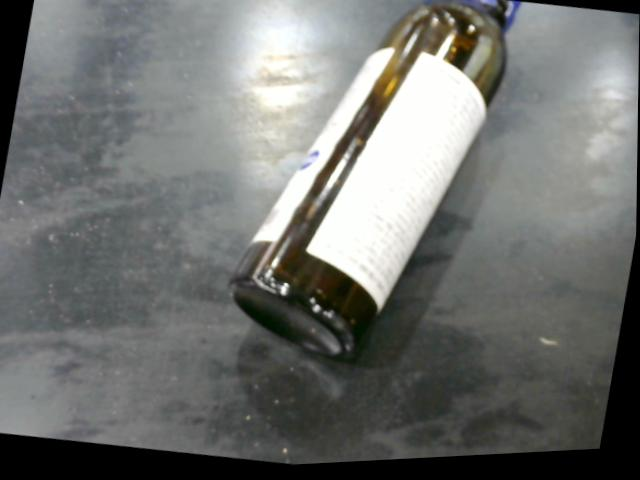glass: (226, 0, 526, 369)
